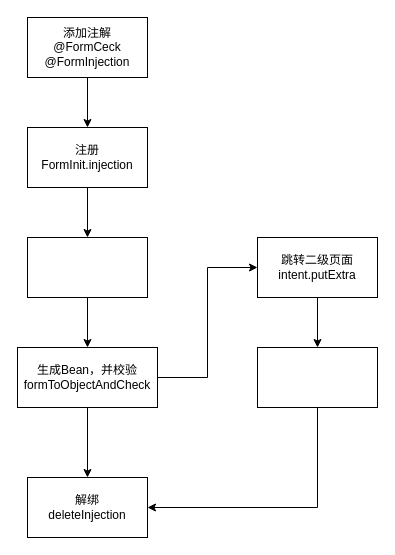
This 395x555 diagram has some shape labels left out. Here are the shapes that lost their labels. From the top down, the centre of each, then its label:
point 87,267: 遍历注解，allLineFormViewMap中添加绑定数据
point 317,377: objectToForm将数据映射到控件
